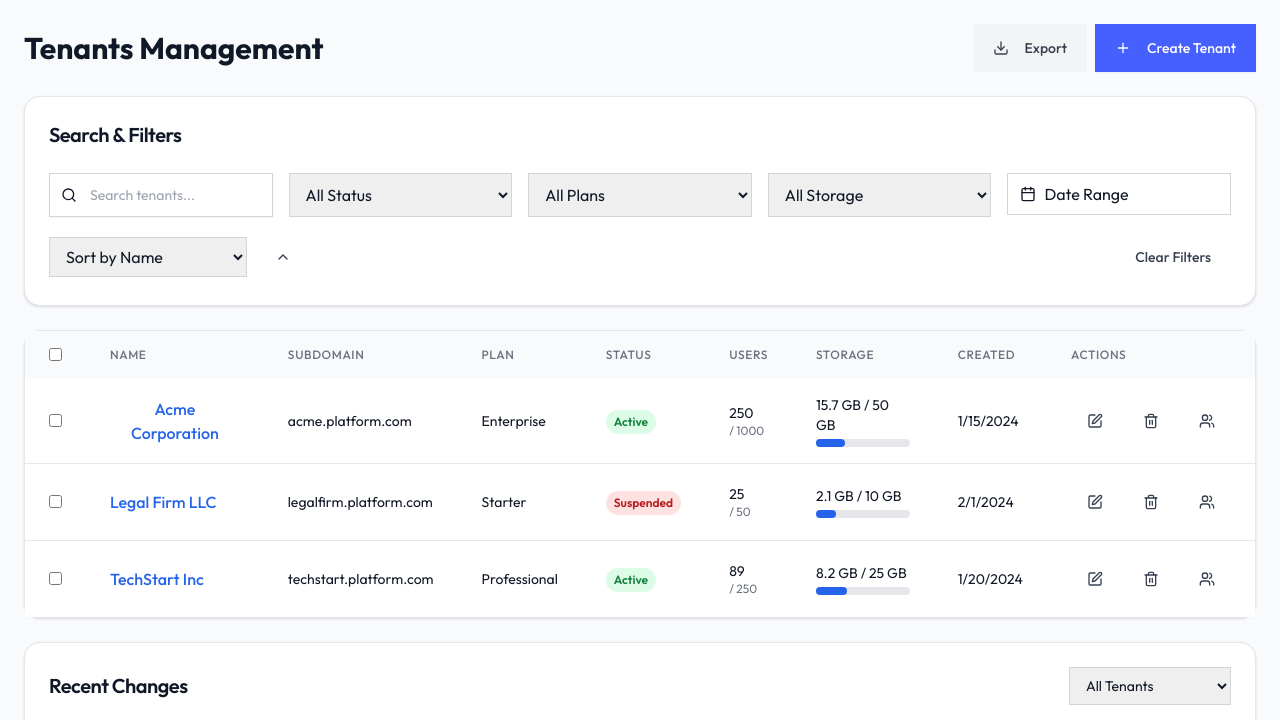
Scenario: TenantsManagementPage › Create New Tenant Form › should validate form fields before submission
The image size is (1280, 720).
Step 1. Click the button with test id "create-tenant-button" → (1176, 48), box [1095,24,1256,72]
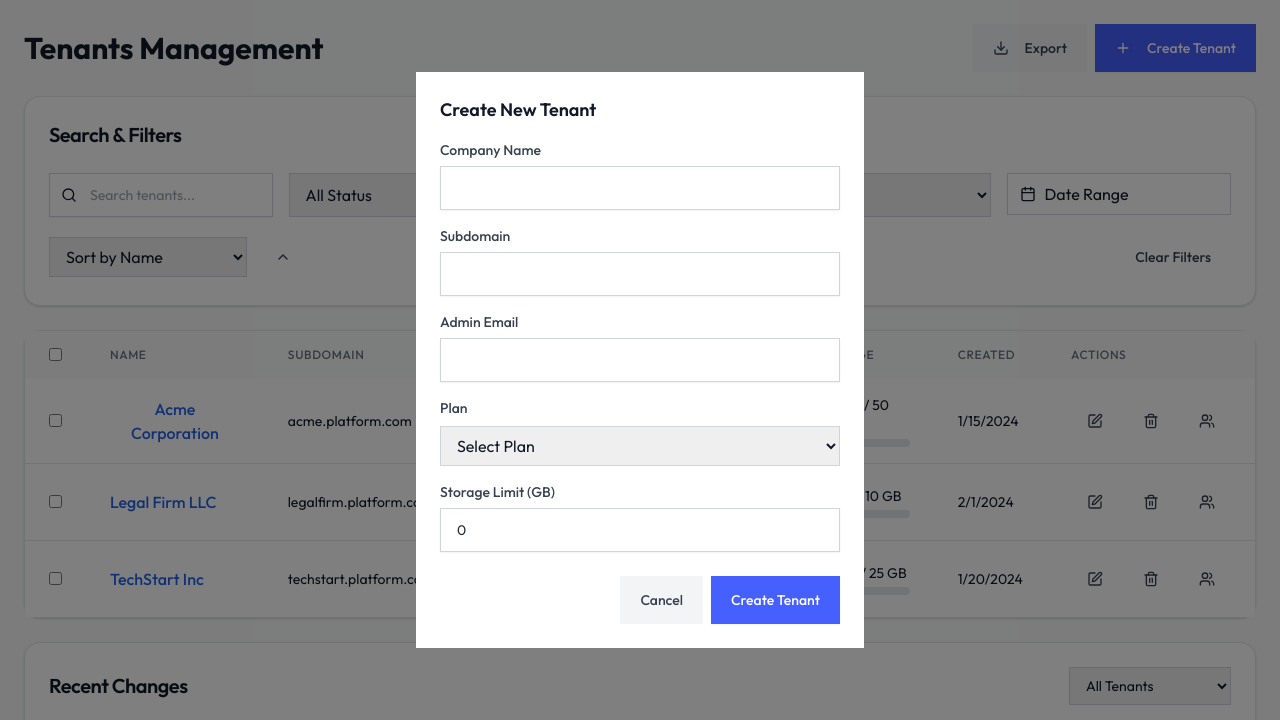
Step 2. Click the button with test id "submit-create-tenant" → (776, 600), box [711,576,840,624]
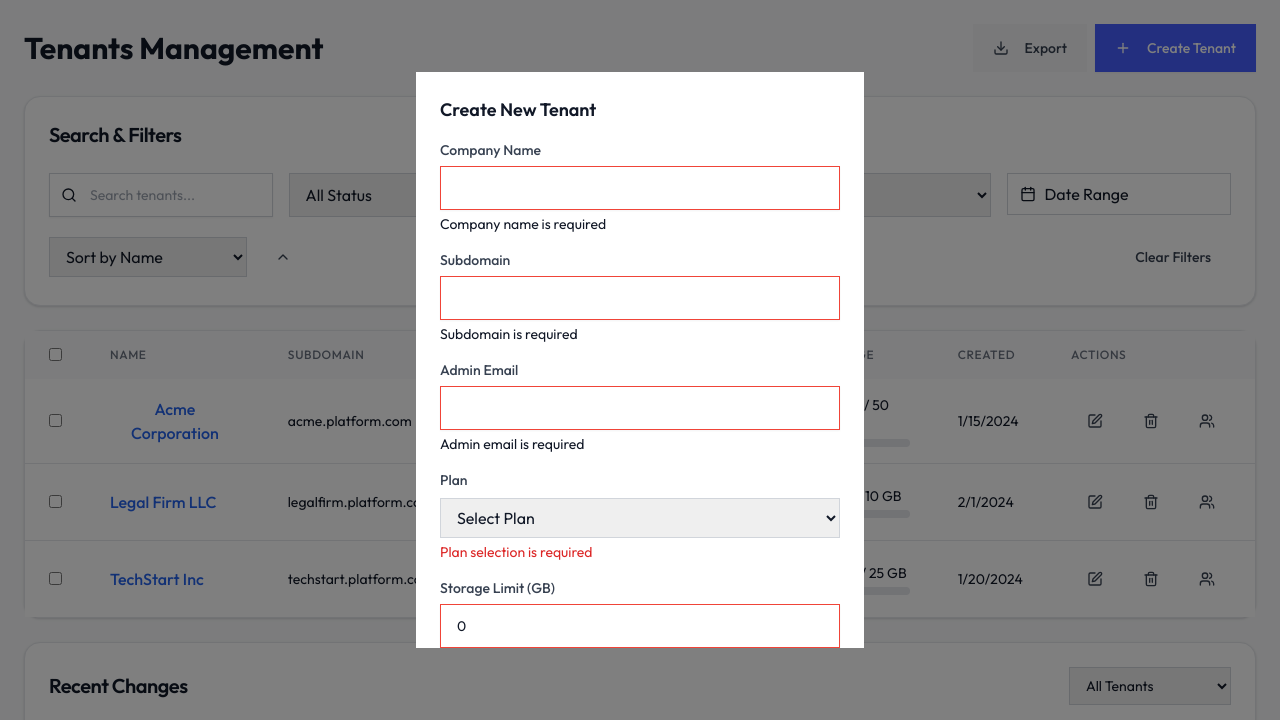
Expected: the text "Company name is required" is shown, [440,215,606,233]
Expected: the text "Subdomain is required" is shown, [440,325,578,343]
Expected: the text "Admin email is required" is shown, [440,435,584,453]
